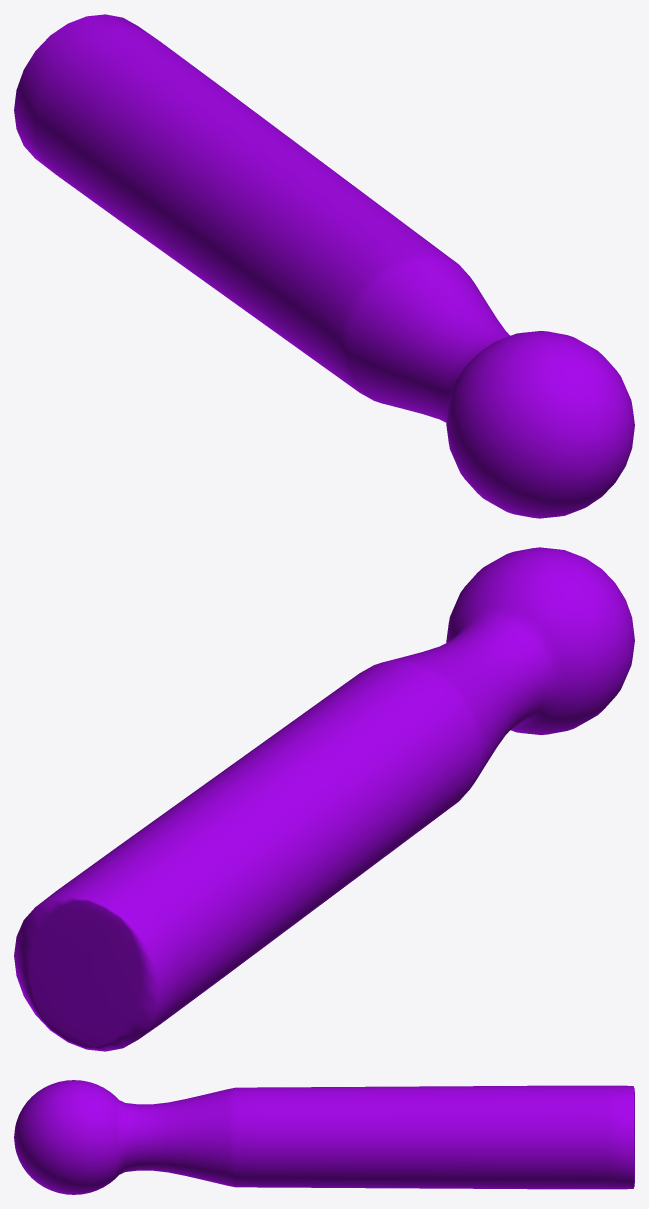
The model's file is Tenpin.fbx.
The picture shows the model from 3 angles, top to bottom: view 1: azimuth 30°, elevation 25°; view 2: azimuth 150°, elevation 25°; view 3: azimuth 270°, elevation 25°; orthographic projection. The views are drawn at different scales.
Visible parts, largest first — view 1: Tenpin; view 2: Tenpin; view 3: Tenpin.
Boxes of the visible parts, x1,y1,x2,y2 form: Tenpin: (14,14,634,518); Tenpin: (14,547,634,1051); Tenpin: (14,1080,634,1194).
Size of the model in its own units: 48.19 by 48.19 by 259.
